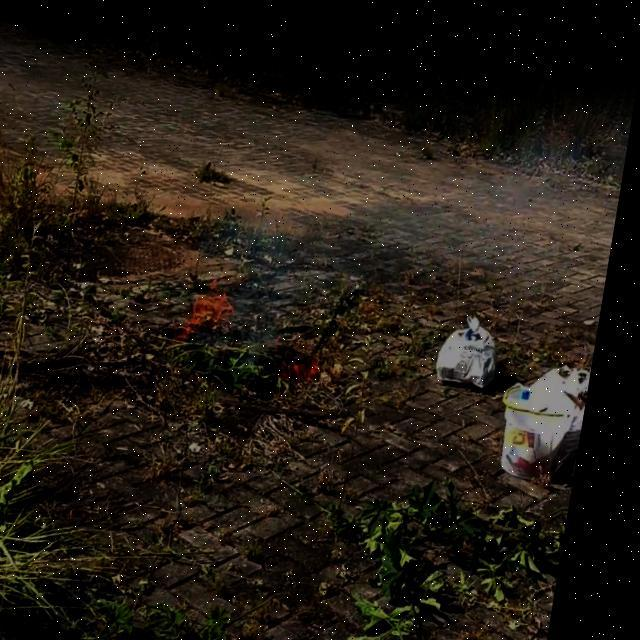Fire: (184, 264, 252, 340), (288, 344, 339, 372)
